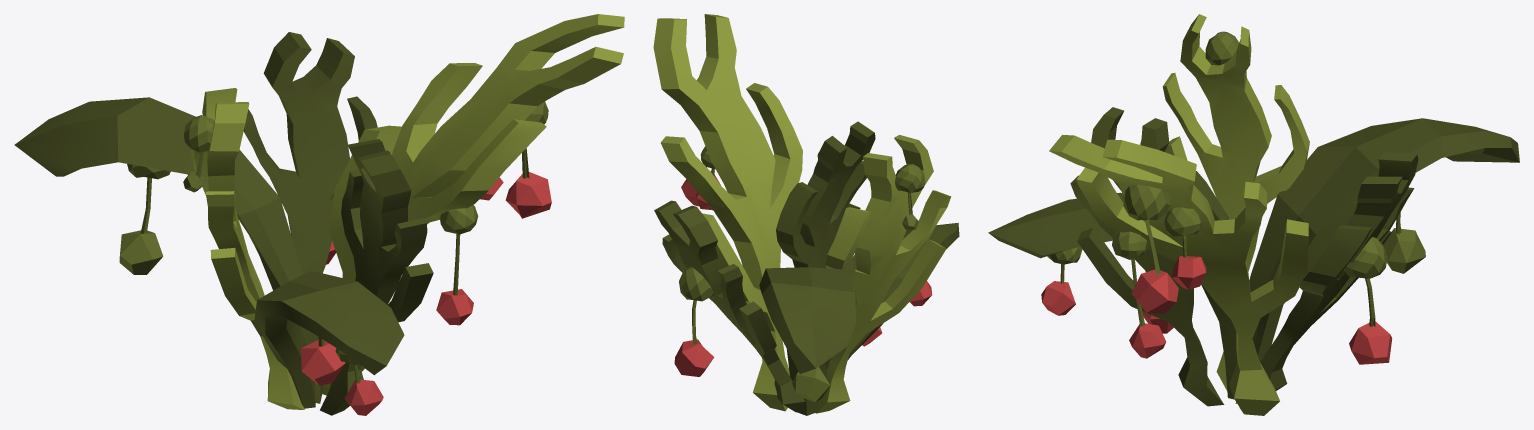
The model's file is ea_swamp_leaffruits_01a_pre_lev1.glb.
3 renders of one model, left to right at view 1: azimuth 30°, elevation 25°; view 2: azimuth 150°, elevation 25°; view 3: azimuth 270°, elevation 25°, orthographic. The views are drawn at different scales.
Parts seen in each view (by area): view 1: ea_swamp_leaffruits_01a_pre_lev1; view 2: ea_swamp_leaffruits_01a_pre_lev1; view 3: ea_swamp_leaffruits_01a_pre_lev1.
Boxes of the visible parts, left/top/right/bottom form: ea_swamp_leaffruits_01a_pre_lev1: left=14, top=14, right=624, bottom=415; ea_swamp_leaffruits_01a_pre_lev1: left=653, top=14, right=959, bottom=415; ea_swamp_leaffruits_01a_pre_lev1: left=988, top=14, right=1519, bottom=415.
Bounding box in the file's own units: 2.09 × 1.88 × 2.47.
1 material, 1 textured.
